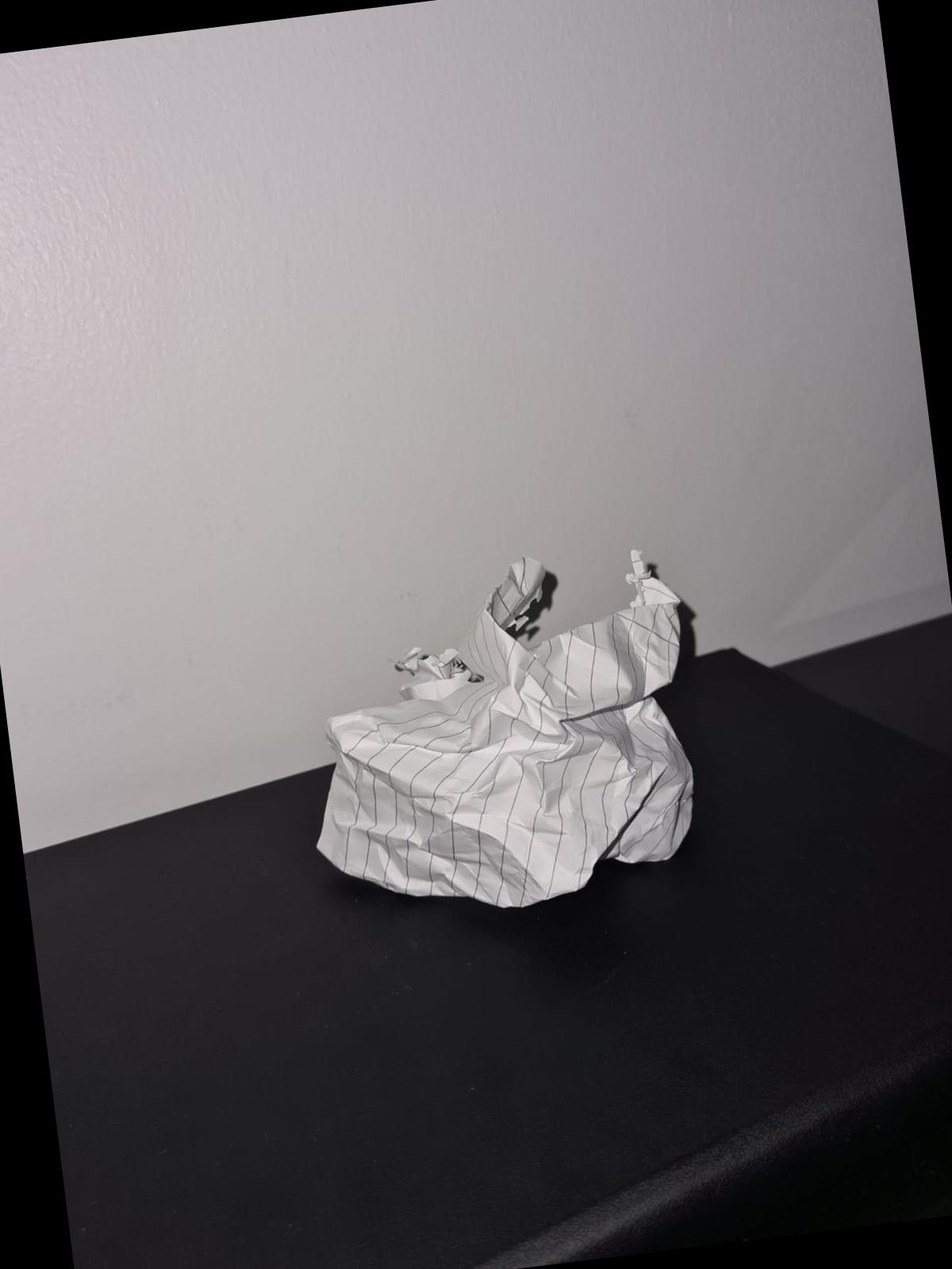Kertas: (300, 547, 716, 910)
